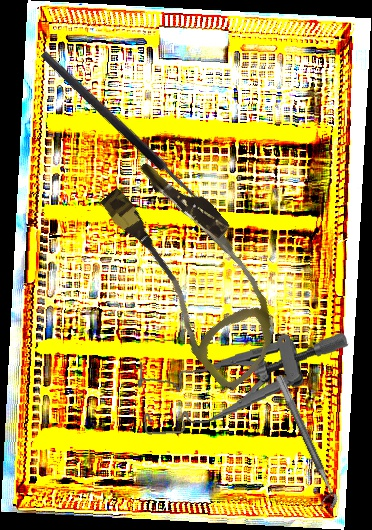Cannula: (78, 147, 313, 395)
Fixation Ring: (263, 373, 342, 514)
Hook Surgical: (38, 41, 225, 217)
Speculum: (132, 328, 355, 438)
